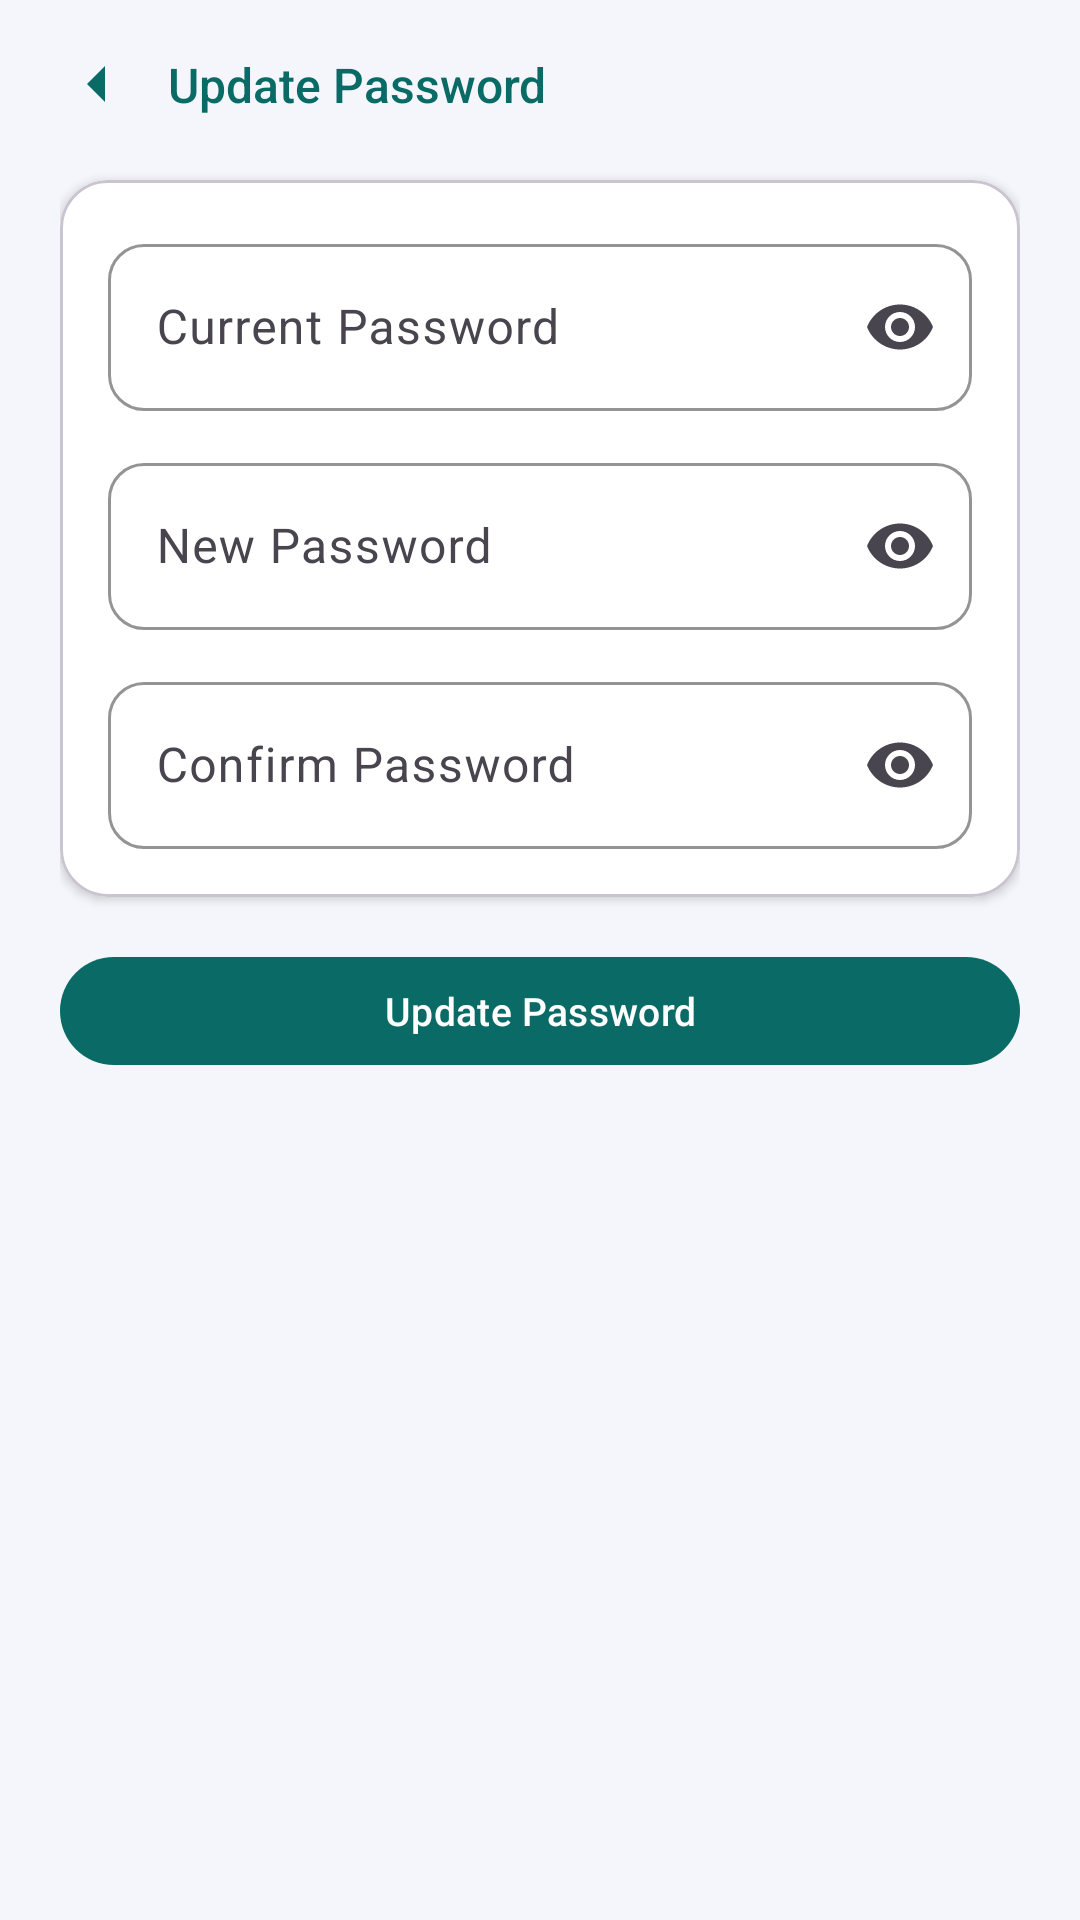

Icons on this 1080px×1920px Android screen, each with the point to tap as (x=x, y=y):
Back: (x=96, y=84)
